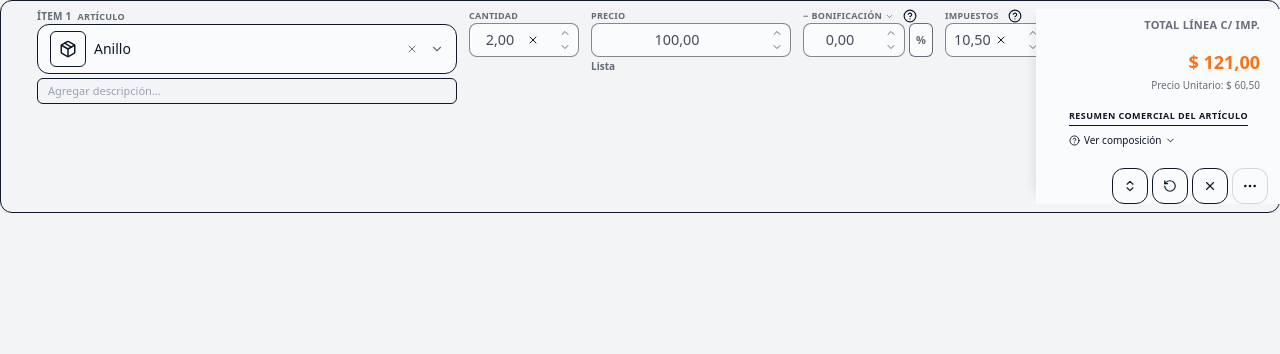
Test: T8 — Total línea c/imp · unitario final + mini desglose › T12+T21 — metales agrupados por METAL PADRE (label principal = padre; variantes en sub-fila 'Detalle:')
Click the button "Ver composición".
click(1123, 140)  # box 1069,134 -> 1176,146
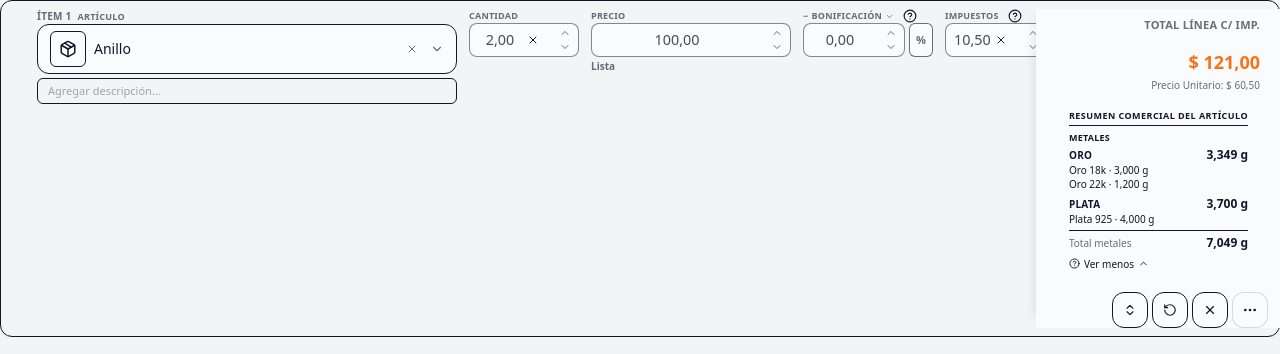
Expected: the text "Oro" is shown, 1069,148 -> 1092,162
Expected: the text "Plata" is shown, 1069,197 -> 1100,211
